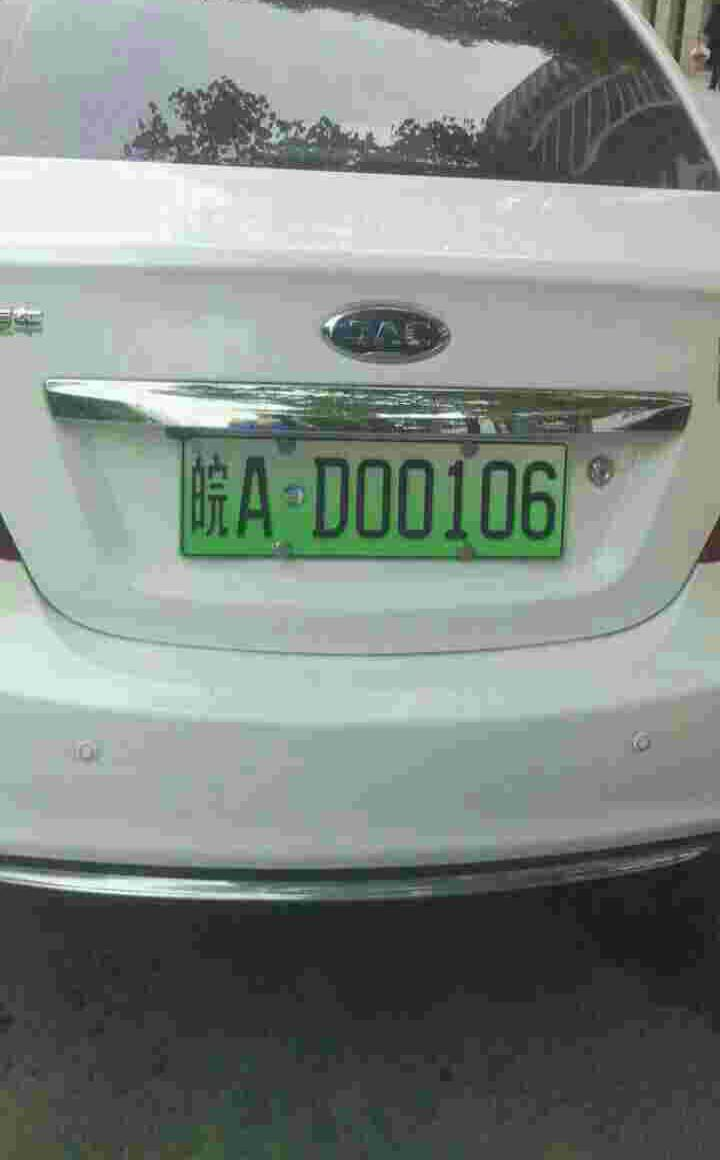car_id: (179, 436, 566, 552)
